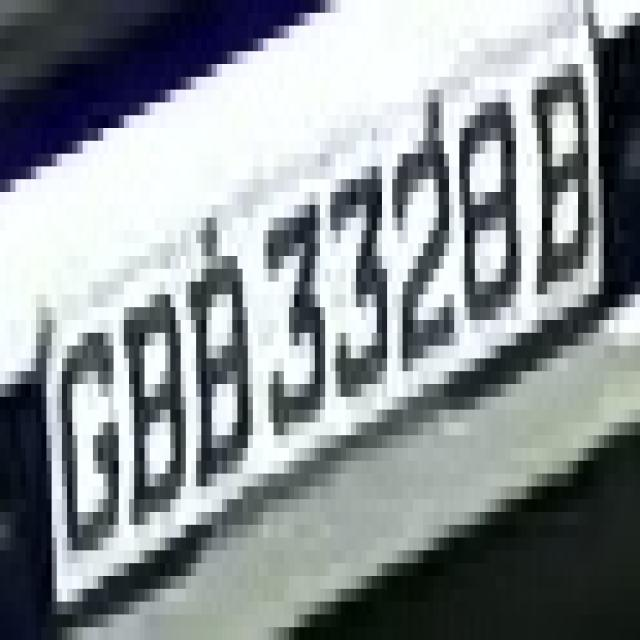2: (377, 102, 464, 384)
3: (315, 141, 402, 422), (258, 179, 336, 461)
8: (444, 64, 531, 358)
B: (516, 51, 609, 320), (108, 256, 191, 550), (186, 205, 263, 512)
G: (46, 294, 124, 614)
